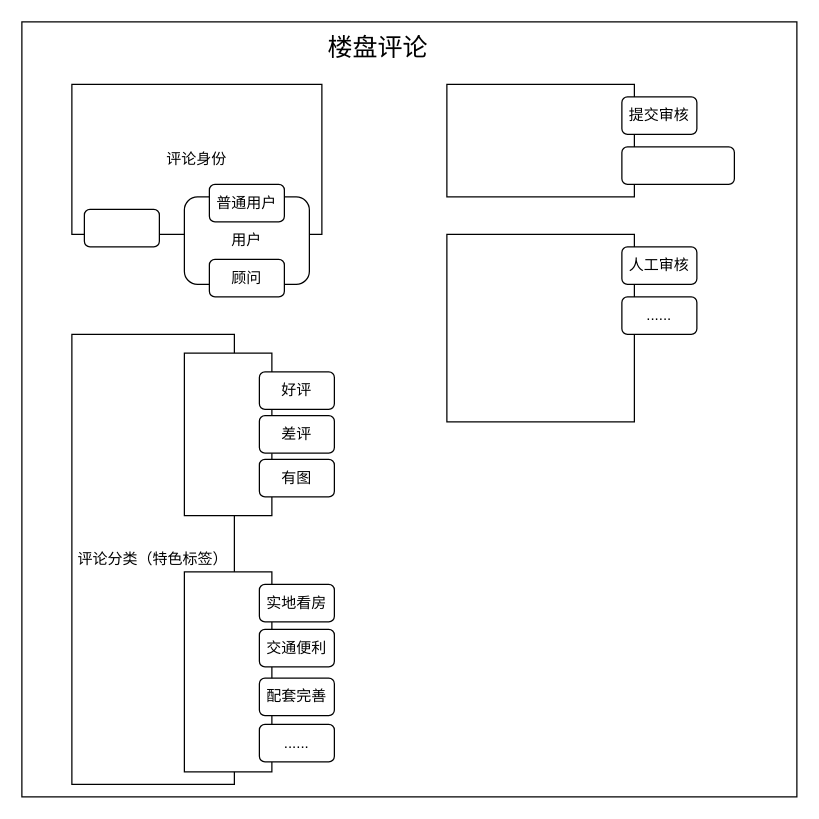
Some shapes in this 819 by 819 pixel diagram are drawn without their labels. Here are the shapes that lost their labels. From the top down, the centre of each, then its label:
At (540,140): "评论机制".
At (677,165): "敏感词过滤".
At (121,227): "游客".
At (540,327): "审核机制".
At (227,434): "简单维度".
At (227,671): "标签维度".
